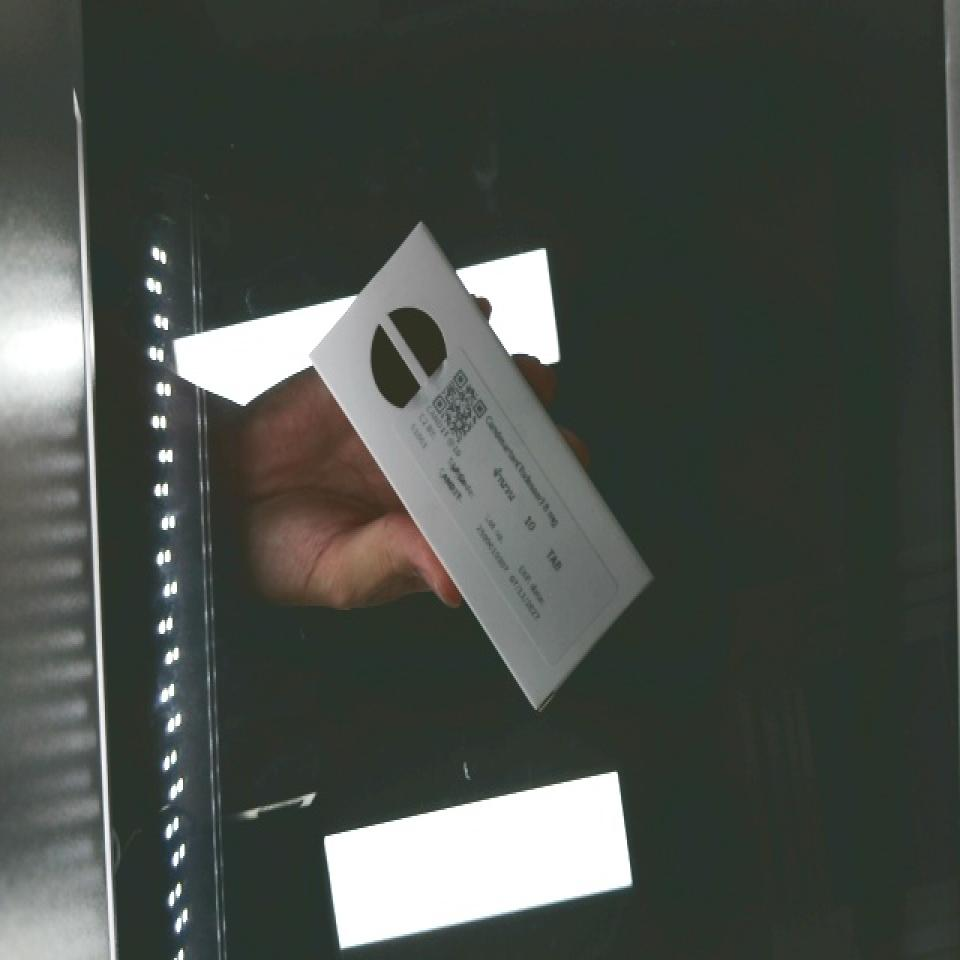medicine_box: (280, 220, 678, 709)
qr_code: (403, 350, 510, 459)
